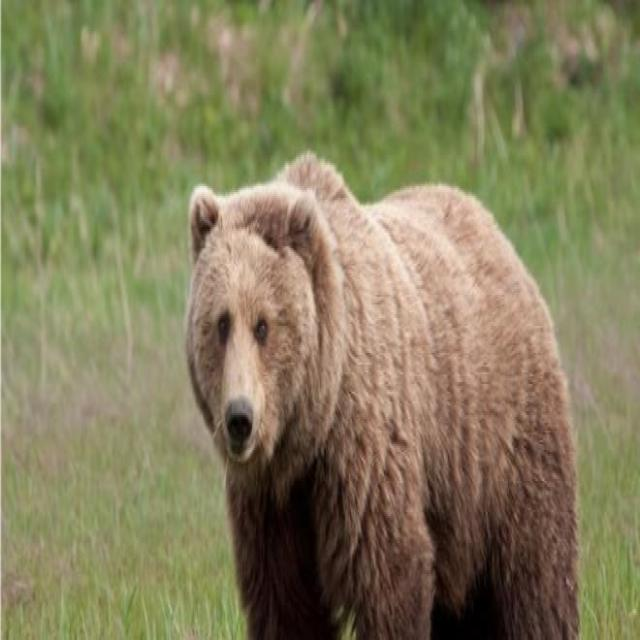Bear: (183, 153, 581, 640)
